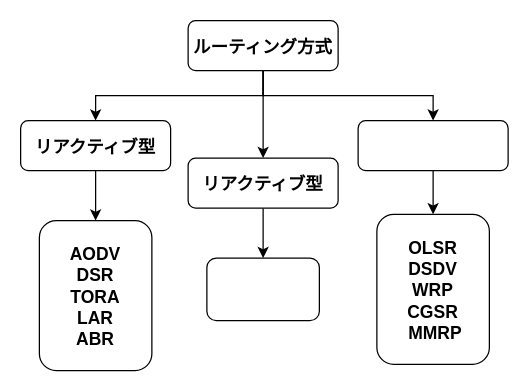
Image size: 529x391. Some labels were removed from this diagram. The centre of each missing label's shape, as x and y in pixels:
ZRP: (262,289)
プロアクティブ型: (432,145)
